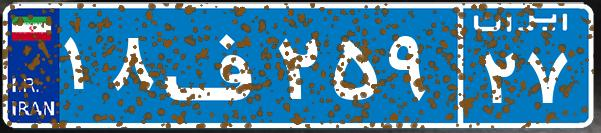1: (57, 26, 110, 107)
2: (273, 28, 330, 110), (475, 38, 525, 113)
5: (330, 28, 385, 110)
7: (525, 38, 570, 115)
8: (110, 28, 158, 105)
9: (385, 28, 445, 110)
ف: (158, 15, 273, 115)
